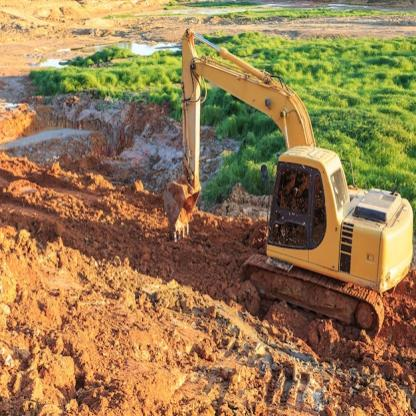excavator: (154, 20, 411, 346)
